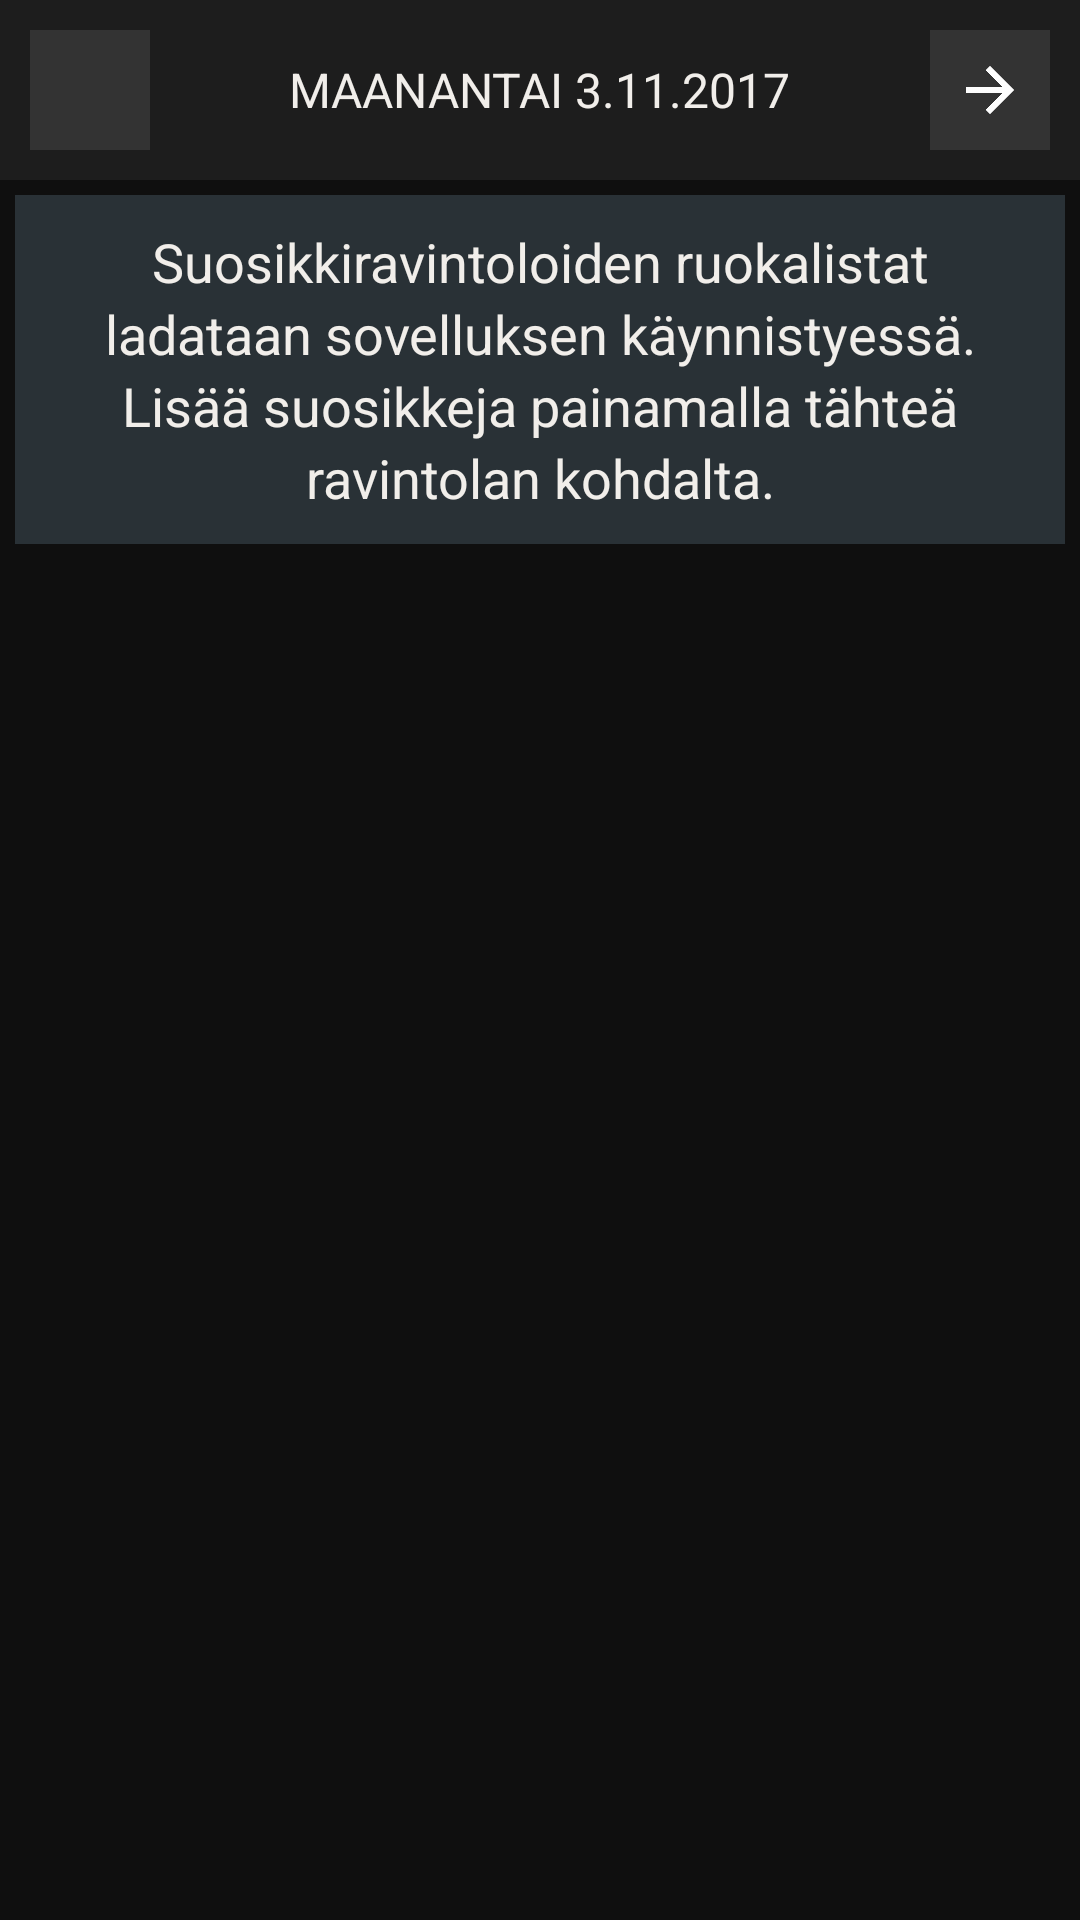

Screen size 1080 x 1920. Icon name, then its box in pixels as box(x1, y1, x2, y2):
next: box(930, 30, 1050, 150)
